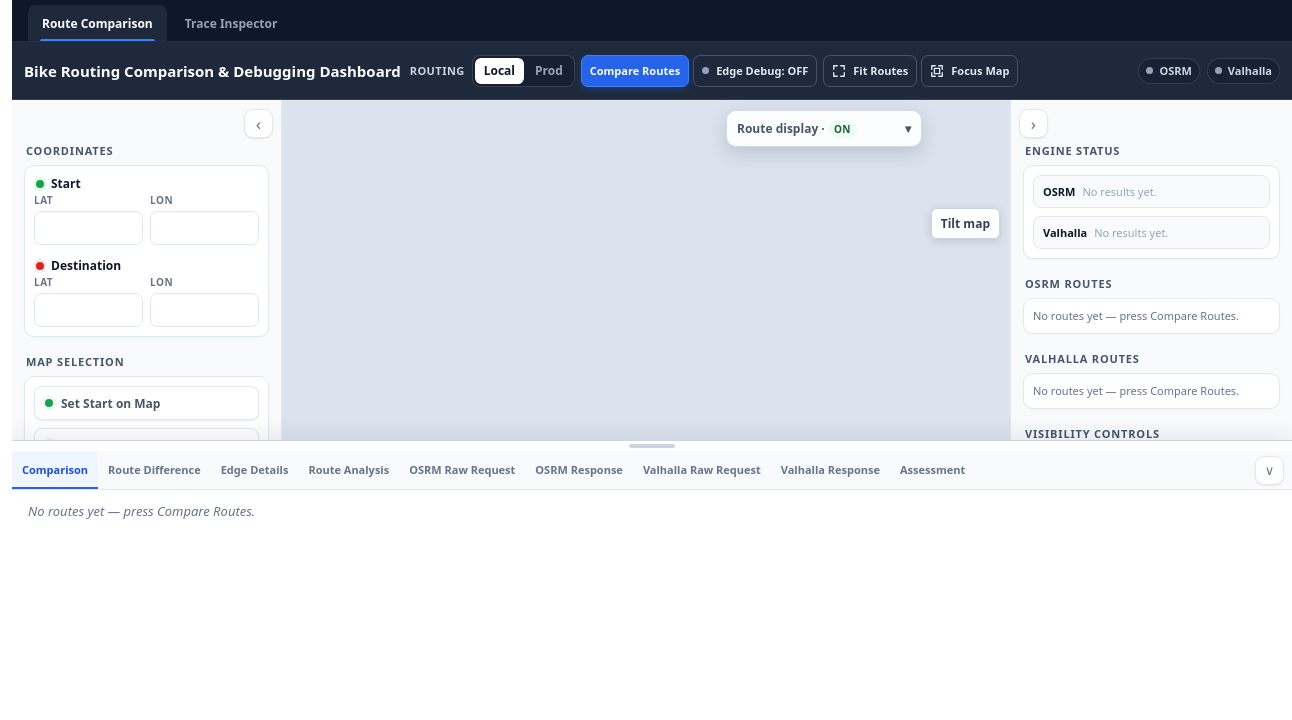
it: Right sidebar collapse › toggles the collapsed class and aria-expanded on the control
This screenshot has width=1292, height=720.
Click the button with test id "collapse-right": [1034, 124] box [1019,109,1048,138]
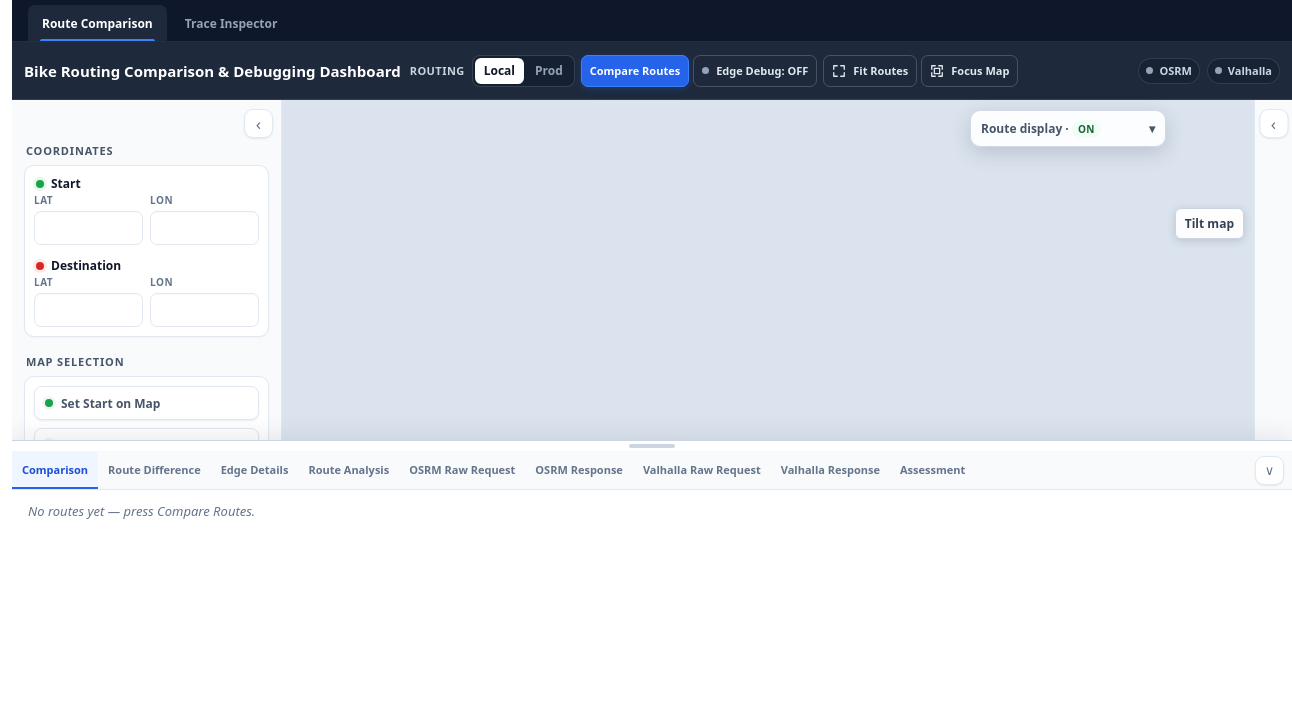
Note: Expand again.
Click the button with test id "collapse-right": [1274, 124] box [1259,109,1288,138]
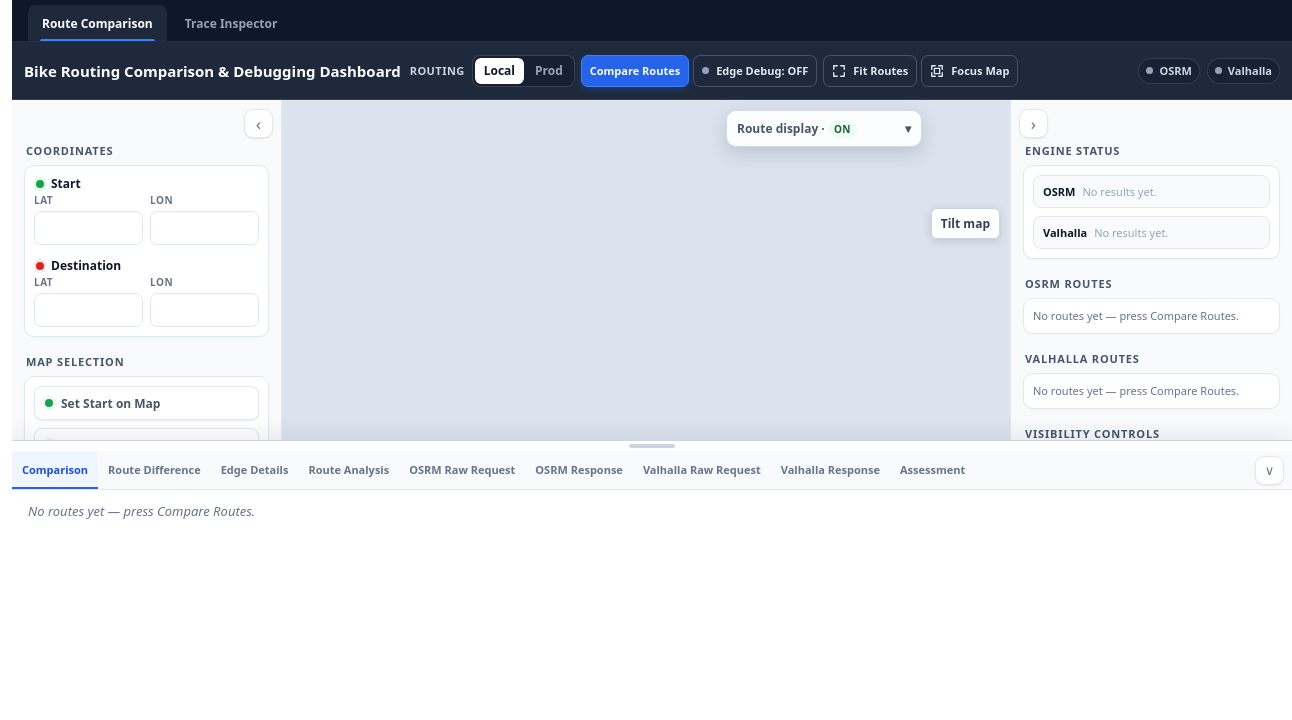
Now the button with test id "collapse-right" is expanded, box [1019,109,1048,138]
